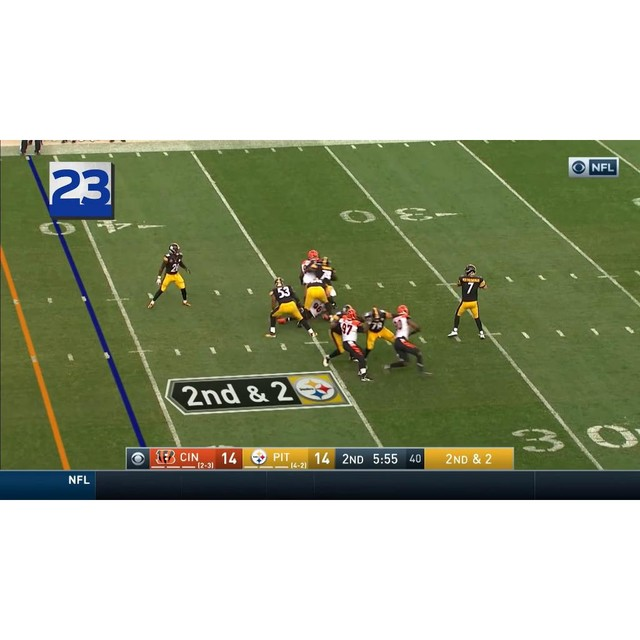american-football-player: (447, 264, 488, 341), (384, 304, 426, 376), (147, 242, 192, 309), (267, 276, 314, 338), (340, 311, 371, 381), (322, 305, 355, 366), (361, 305, 398, 358), (302, 269, 335, 323), (300, 250, 323, 287)
